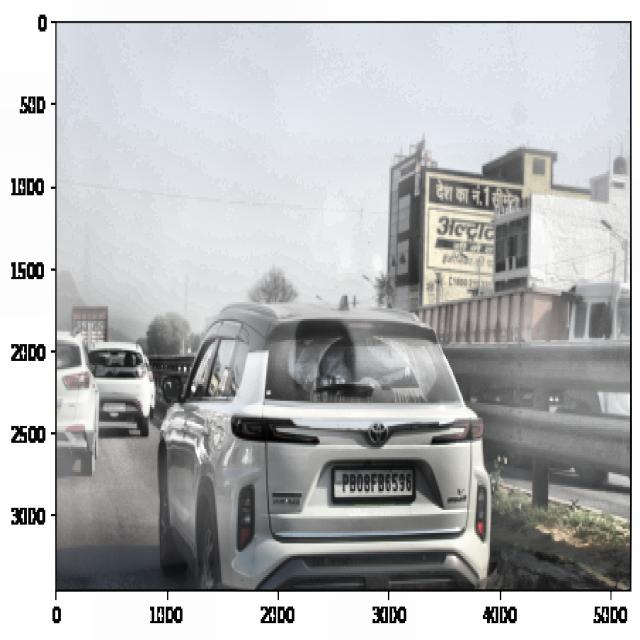license_plate: (338, 466, 416, 502)
